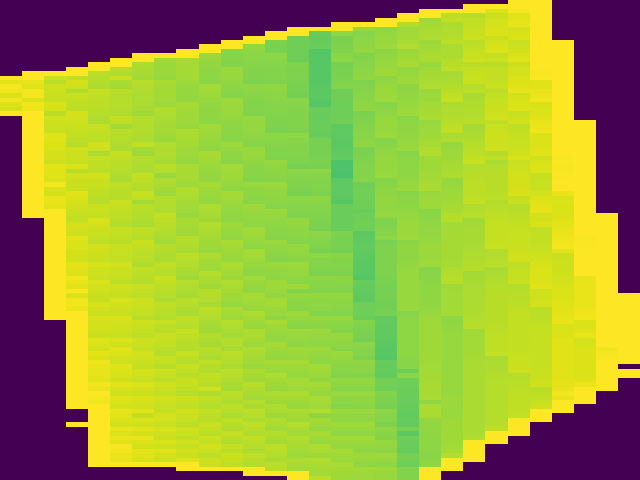cube: (2, 3, 640, 480)
